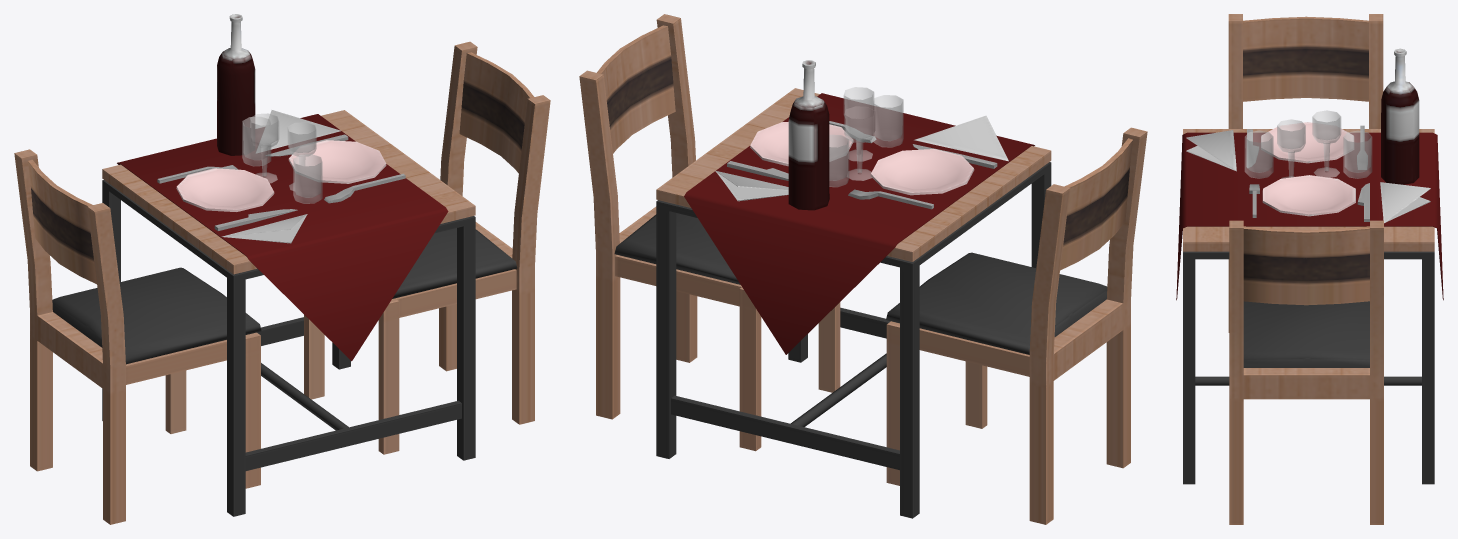
3 views of the same model, side by side, from view 1: azimuth 30°, elevation 25°; view 2: azimuth 150°, elevation 25°; view 3: azimuth 270°, elevation 25° (orthographic). The views are drawn at different scales.
Visible parts, largest first — view 1: chaise_neo, nappe, chaise_neo_1, table_pour_2, couvers_1, verres; view 2: chaise_neo, chaise_neo_1, nappe, table_pour_2, couvers_1, verres; view 3: chaise_neo_1, couvers_1, nappe, chaise_neo, table_pour_2, verres.
Part boxes in pixels (<box>): chaise_neo: <box>14,149,261,524</box>; nappe: <box>117,114,448,361</box>; chaise_neo_1: <box>304,41,550,454</box>; table_pour_2: <box>102,110,475,516</box>; couvers_1: <box>157,14,405,243</box>; verres: <box>242,113,322,203</box>; chaise_neo: <box>886,127,1147,524</box>; chaise_neo_1: <box>579,14,840,451</box>; nappe: <box>684,93,1034,354</box>; table_pour_2: <box>656,88,1051,518</box>; couvers_1: <box>715,60,1008,210</box>; verres: <box>829,87,903,187</box>; chaise_neo_1: <box>1229,220,1383,524</box>; couvers_1: <box>1186,48,1430,223</box>; nappe: <box>1176,132,1443,300</box>; chaise_neo: <box>1228,14,1383,332</box>; table_pour_2: <box>1183,129,1434,484</box>; verres: <box>1244,110,1372,178</box>.
Size of the model in its own units: 152 by 123 by 79.55.
Materials: 5 (3 with a texture image).
